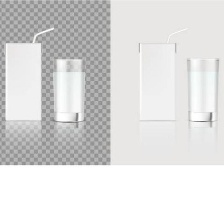carton: (135, 35, 181, 125), (1, 38, 46, 125)
drinking_straw: (27, 25, 55, 43), (163, 26, 189, 44)
glass: (50, 56, 92, 124), (182, 56, 221, 128)
